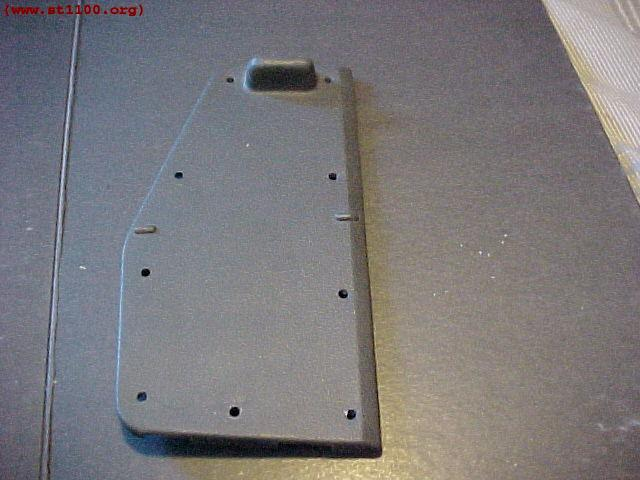hole: (227, 404, 244, 422), (344, 408, 358, 424), (135, 390, 148, 406), (336, 287, 350, 301), (172, 169, 185, 182), (140, 266, 151, 279), (328, 172, 339, 184), (322, 75, 334, 85), (225, 75, 235, 87)
